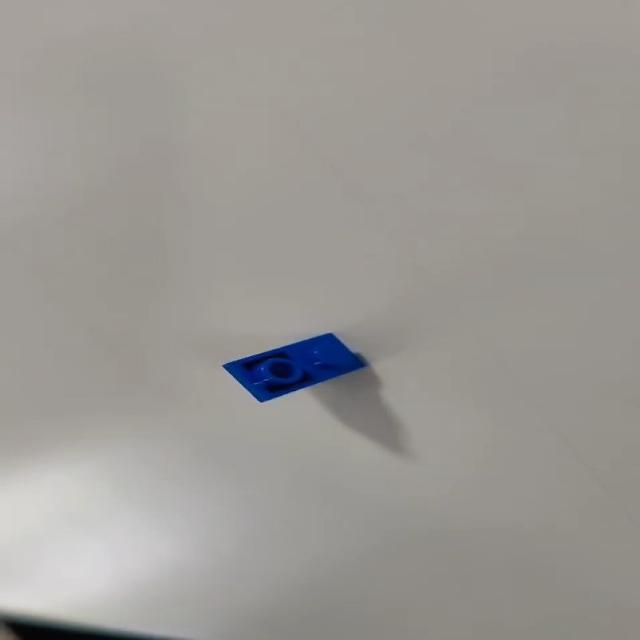X1x2x1: (210, 330, 379, 404)
